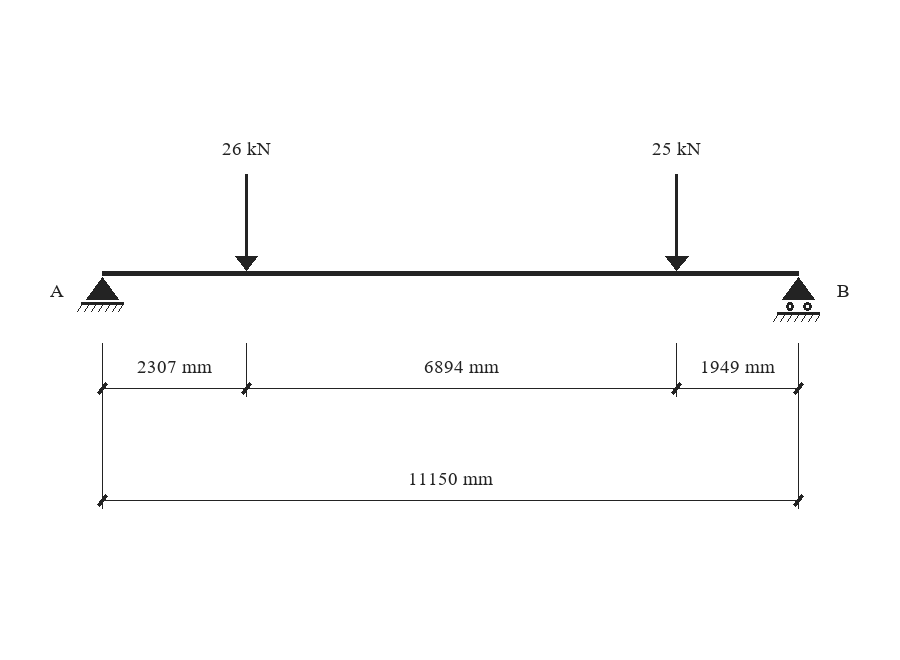pin_support: (77, 277, 124, 312)
point_load: (665, 174, 689, 271), (235, 174, 258, 271)
roller_support: (773, 277, 820, 322)
